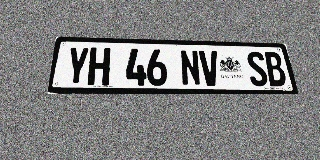4: (126, 48, 146, 86)
6: (147, 49, 167, 86)
B: (263, 52, 288, 86)
H: (87, 47, 111, 85)
N: (180, 50, 201, 86)
S: (245, 51, 269, 86)
V: (199, 50, 221, 86)
Y: (64, 47, 90, 85)
